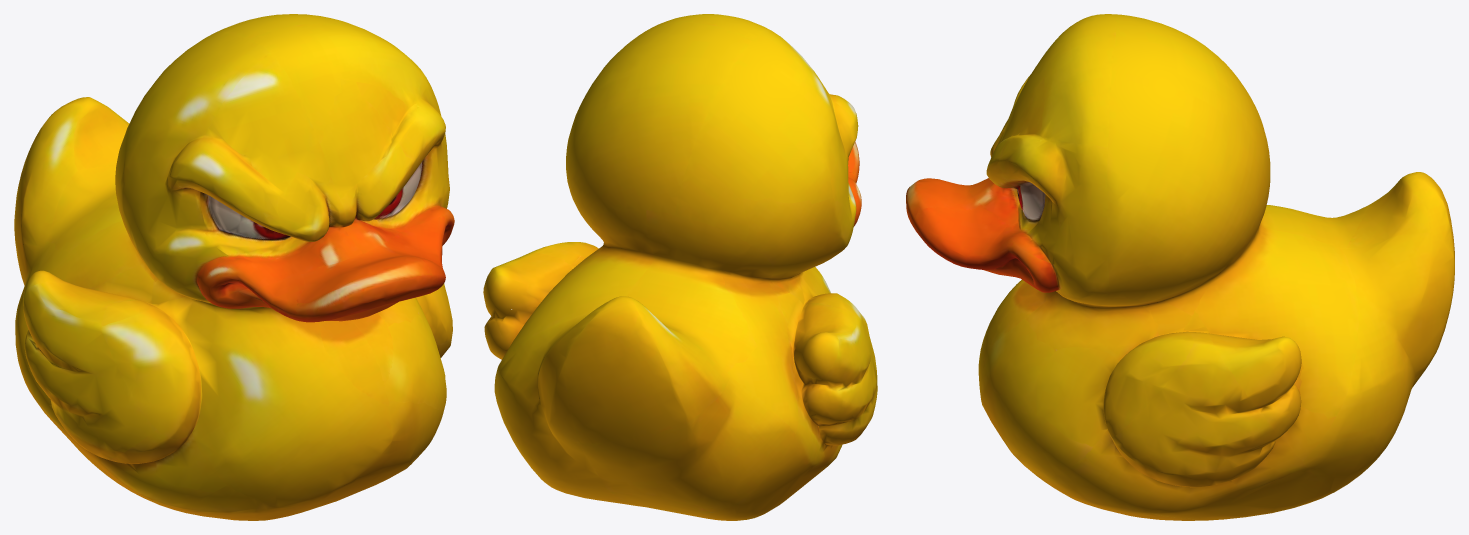
File: rubber_bullet.glb
The picture shows the model from 3 angles, left to right: view 1: azimuth 30°, elevation 25°; view 2: azimuth 150°, elevation 25°; view 3: azimuth 270°, elevation 25°; orthographic projection. The views are drawn at different scales.
Visible parts, largest first — view 1: tripo_node_df1ae656-00f2-48b2-a415-df9086bef06a; view 2: tripo_node_df1ae656-00f2-48b2-a415-df9086bef06a; view 3: tripo_node_df1ae656-00f2-48b2-a415-df9086bef06a.
Part boxes in pixels (box(x1,y1,x2,y2)): tripo_node_df1ae656-00f2-48b2-a415-df9086bef06a: box(14, 14, 454, 520); tripo_node_df1ae656-00f2-48b2-a415-df9086bef06a: box(483, 14, 877, 520); tripo_node_df1ae656-00f2-48b2-a415-df9086bef06a: box(906, 14, 1454, 520).
Size of the model in its own units: 0.7713 by 0.8854 by 0.979.
1 material, 1 textured.
